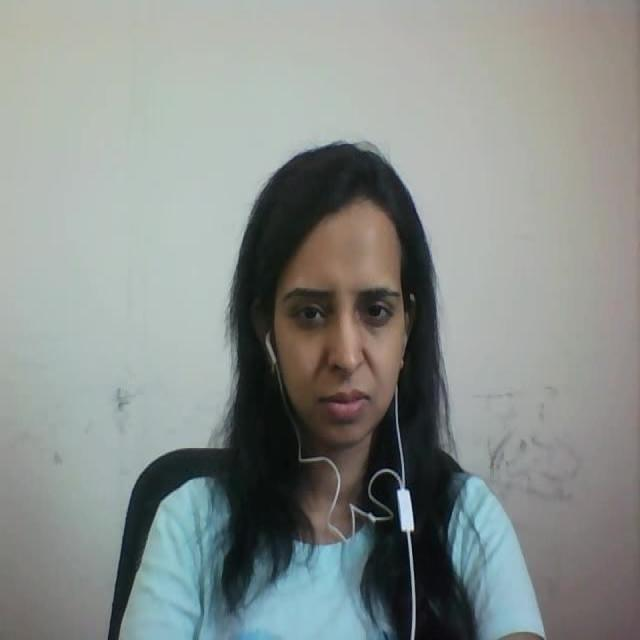Engaged: (206, 120, 454, 468)
